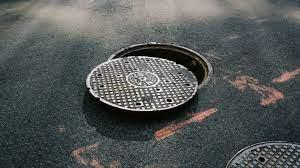open manhole-not overflowing-: (88, 29, 214, 117)
